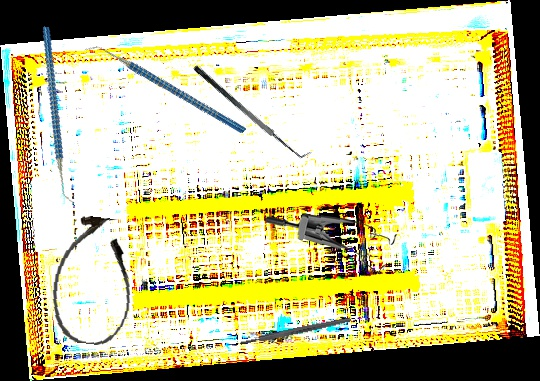Cannula: (46, 212, 141, 349)
Chopper: (83, 3, 247, 177), (6, 26, 112, 204)
Scalpel Handle: (239, 316, 352, 347)
Spatula Surgical: (192, 56, 312, 166)
Speculum: (264, 208, 399, 279)
